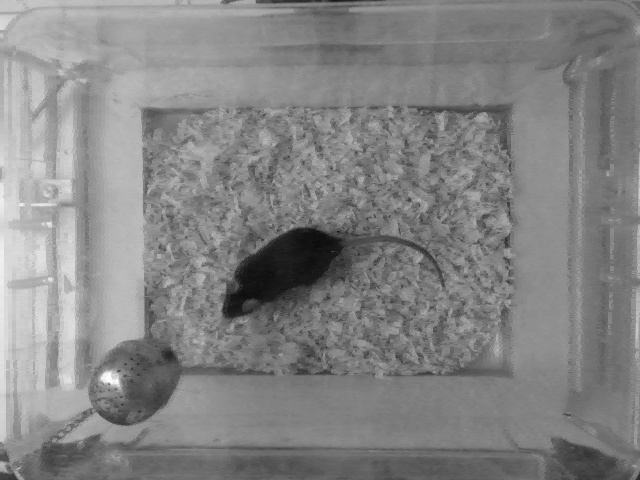mice: (219, 223, 447, 322)
